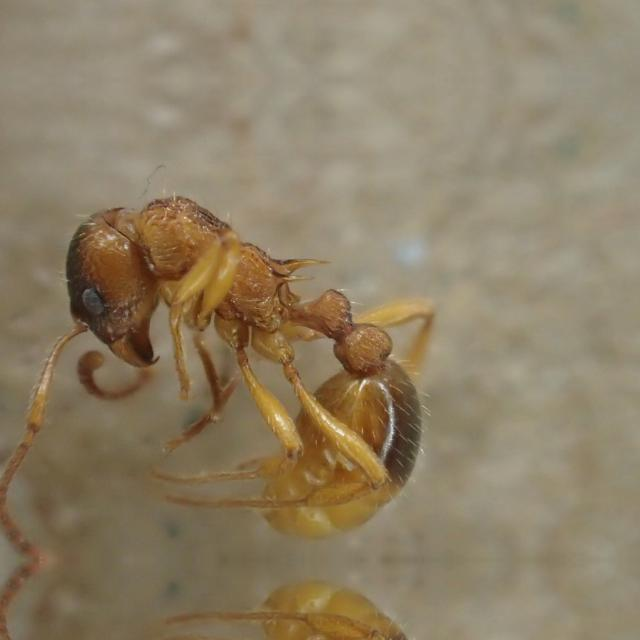Myrmica: (13, 116, 453, 544)
